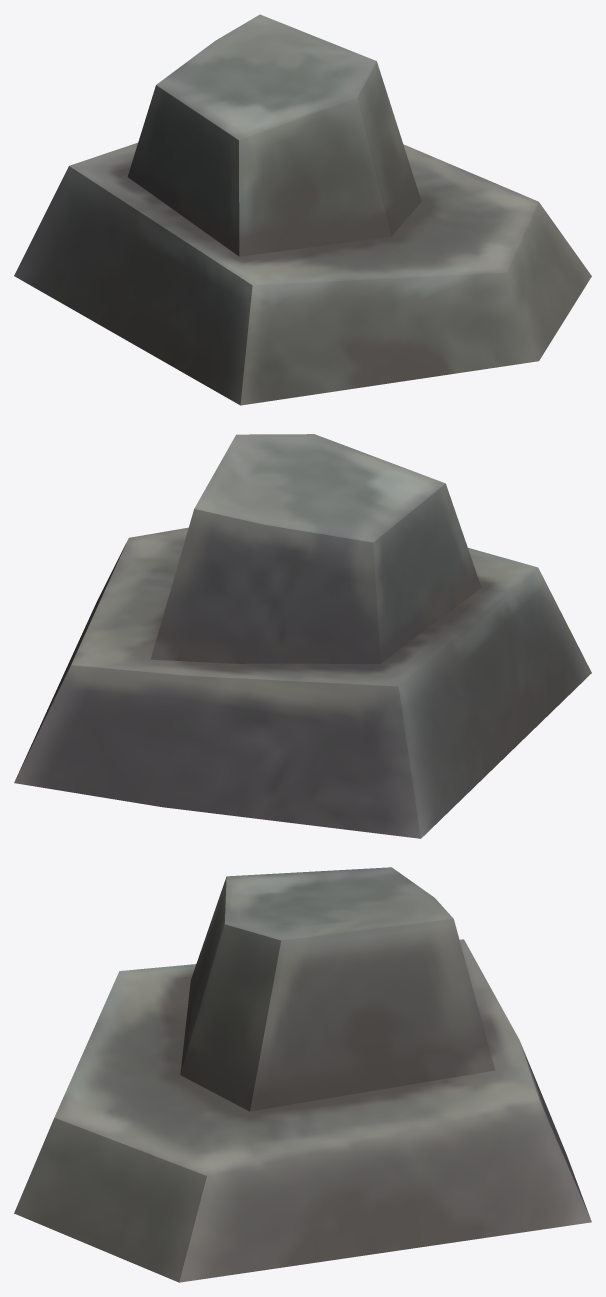
Rendered from stone03.fbx.
3 views of the same model, one above another, from view 1: azimuth 30°, elevation 25°; view 2: azimuth 150°, elevation 25°; view 3: azimuth 270°, elevation 25° (orthographic). The views are drawn at different scales.
Parts seen in each view (by area): view 1: stone03; view 2: stone03; view 3: stone03.
Boxes of the visible parts, <box> form: stone03: <box>14,14,591,405</box>; stone03: <box>14,434,591,838</box>; stone03: <box>14,867,591,1282</box>.
Size of the model in its own units: 58.54 by 28.8 by 60.45.
